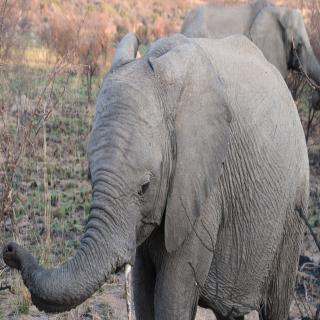Elephant: (3, 24, 311, 320)
